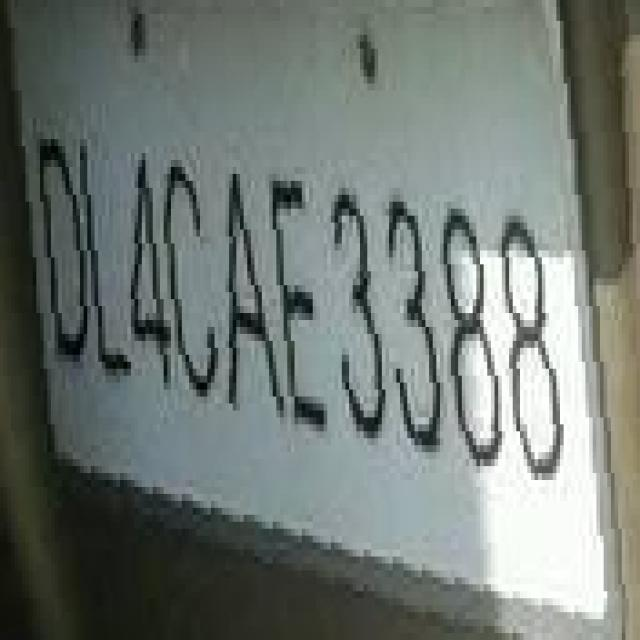license_plate: (22, 56, 640, 556)
